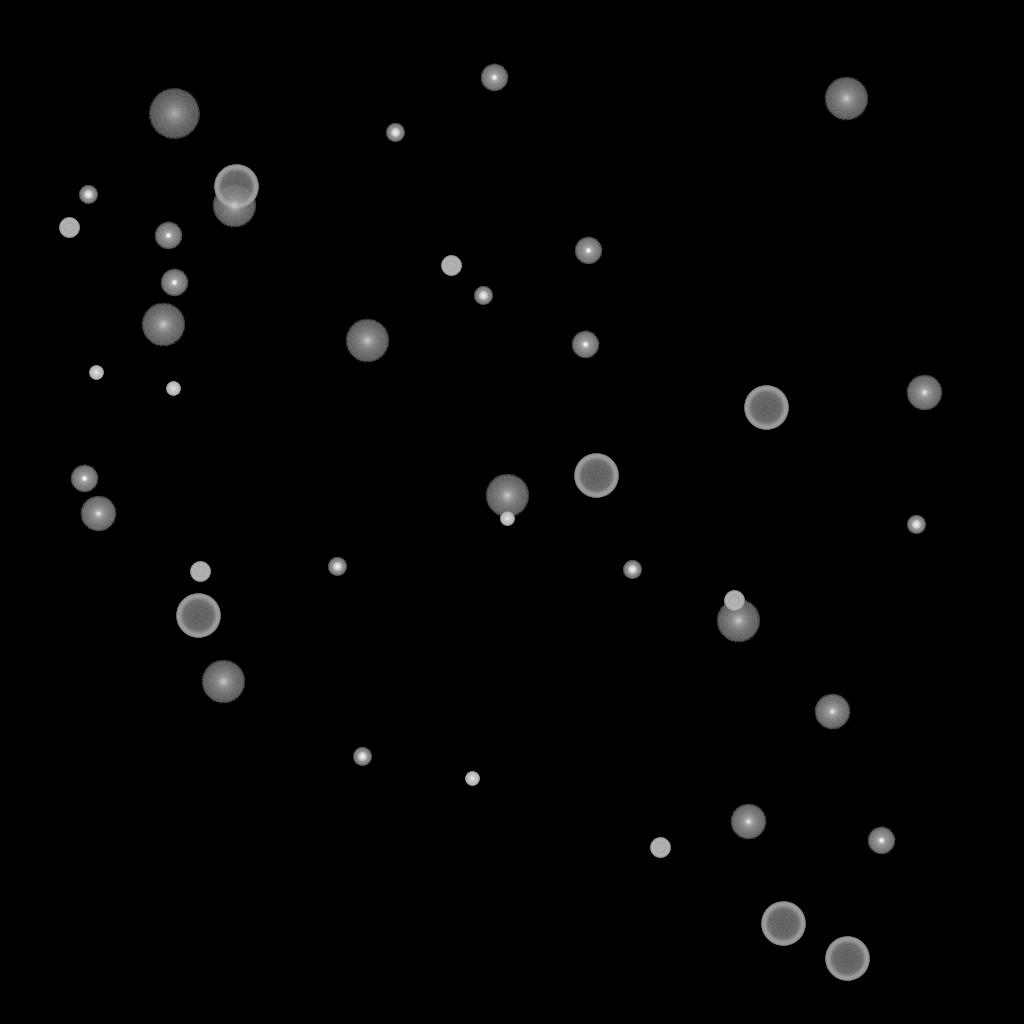depth:-10: (160, 269, 188, 297), (574, 237, 602, 265), (70, 465, 98, 493), (480, 64, 508, 92), (154, 222, 182, 250), (571, 331, 599, 359), (867, 827, 895, 855)
depth:-20: (386, 124, 404, 142), (474, 287, 492, 305), (623, 561, 641, 579), (79, 186, 97, 204), (353, 748, 371, 766), (328, 558, 346, 576), (907, 516, 925, 534)
depth:-30: (166, 382, 180, 396), (500, 512, 514, 526), (465, 772, 479, 786), (89, 366, 103, 380)
depth:-40: (724, 591, 744, 611), (650, 838, 670, 858), (441, 256, 461, 276), (190, 562, 210, 582), (59, 218, 79, 238)
depth:-70: (176, 594, 220, 638), (214, 165, 258, 209), (574, 454, 618, 498), (744, 386, 788, 430), (825, 937, 869, 981), (761, 902, 805, 946)
depth:0: (730, 804, 766, 840), (80, 496, 116, 532), (814, 694, 850, 730), (906, 375, 942, 411)
depth:10: (201, 660, 245, 704), (345, 319, 389, 363), (141, 303, 185, 347), (485, 474, 529, 518), (716, 599, 760, 643), (212, 184, 256, 228), (824, 77, 868, 121)
depth:20: (148, 89, 200, 139)
